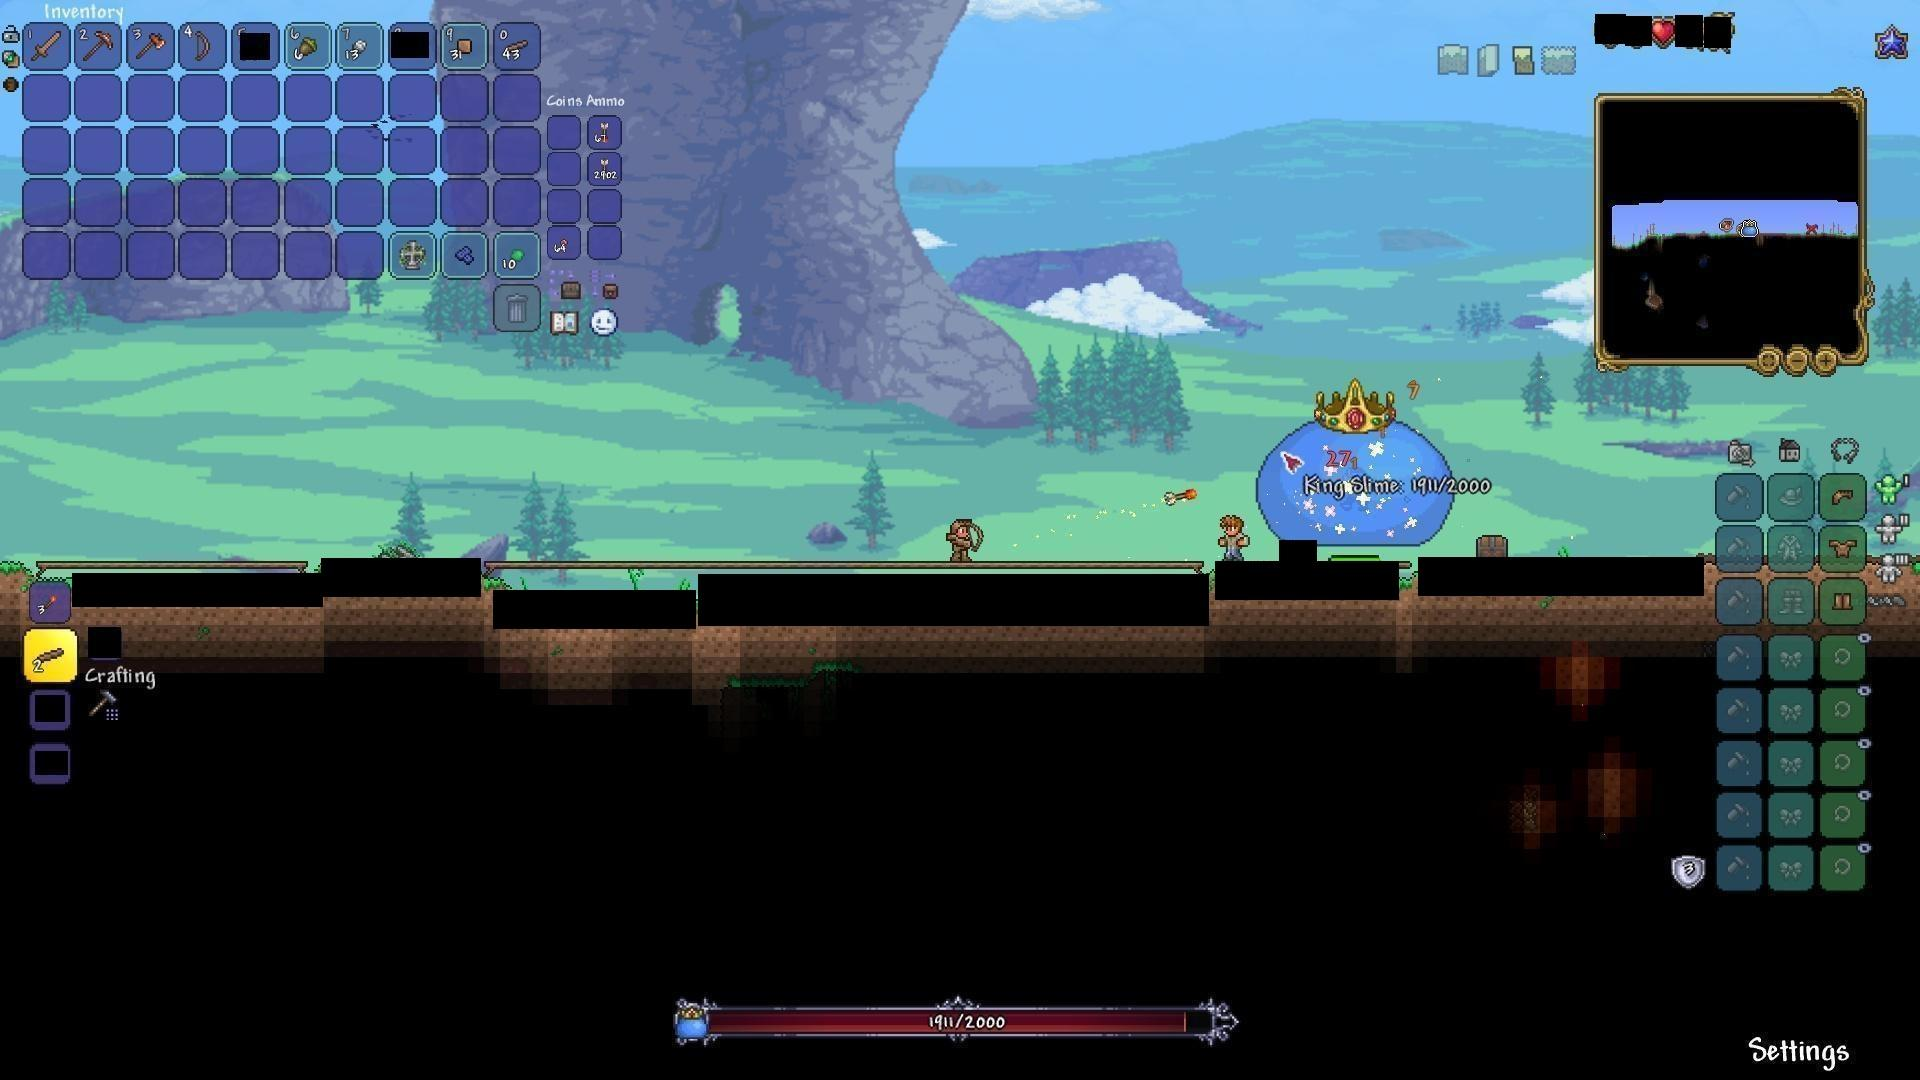breastplate: (1830, 535, 1859, 556)
dirt: (1, 556, 32, 607)
heart: (1648, 17, 1676, 47)
helmet: (1828, 484, 1857, 510)
legs: (1832, 587, 1857, 615)
